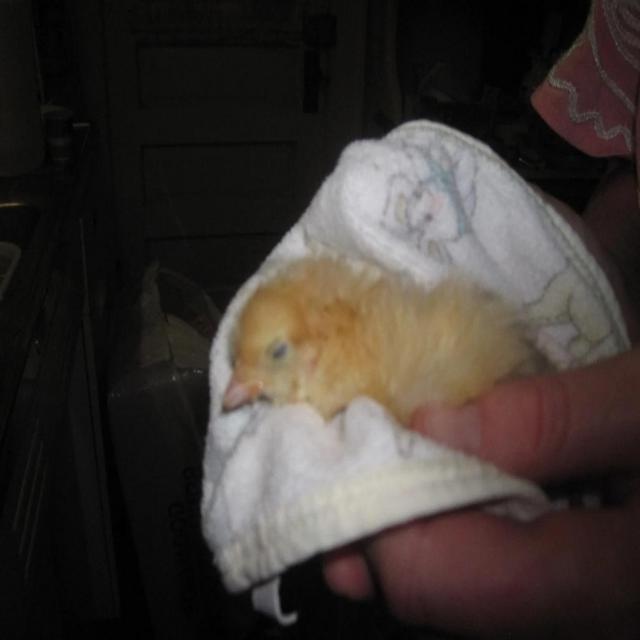poussin: (216, 255, 531, 450)
